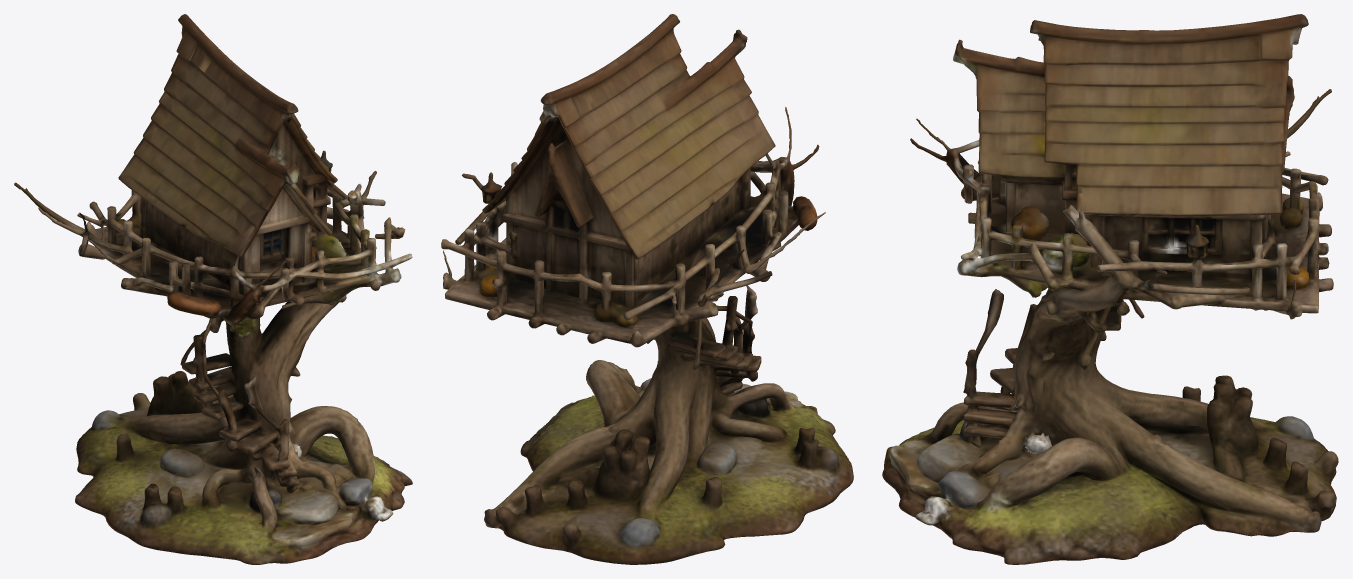
File: fantasy-treehouse.glb
The picture shows the model from 3 angles, left to right: view 1: azimuth 30°, elevation 25°; view 2: azimuth 150°, elevation 25°; view 3: azimuth 270°, elevation 25°; orthographic projection. The views are drawn at different scales.
Parts seen in each view (by area): view 1: node_0; view 2: node_0; view 3: node_0.
Boxes of the visible parts, box(x1,y1,x2,y2) form: node_0: box(14, 14, 412, 564); node_0: box(441, 14, 853, 564); node_0: box(882, 14, 1338, 564).
Size of the model in its own units: 0.7274 by 0.9035 by 0.7654.
Materials: 1 (1 with a texture image).
